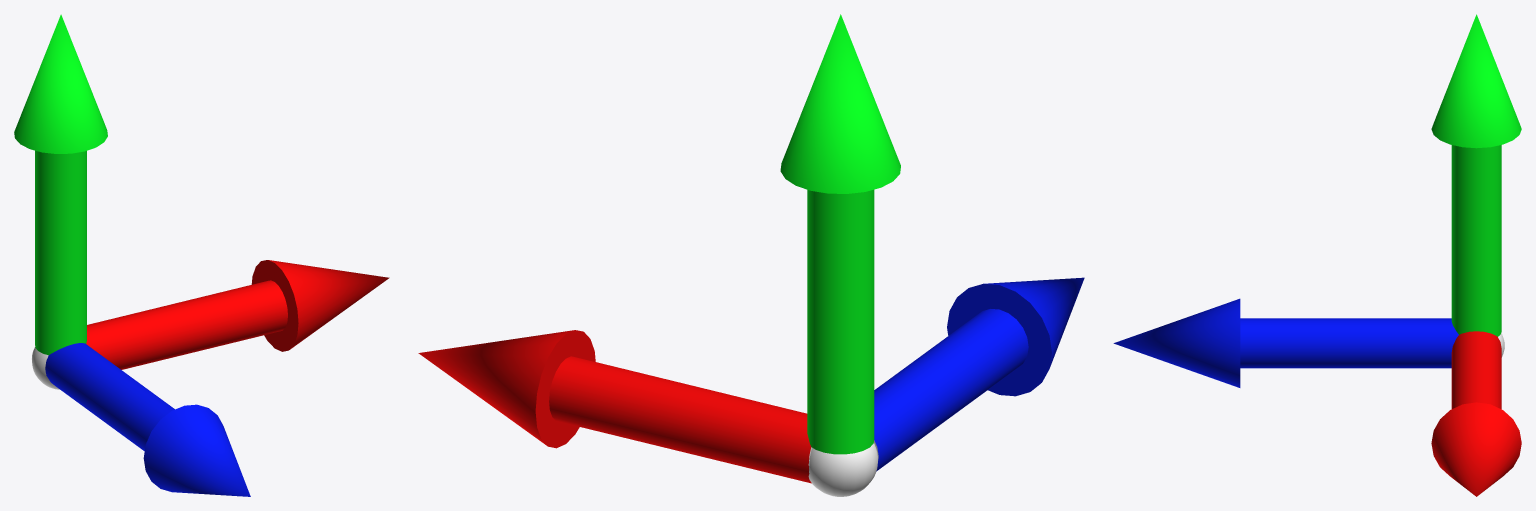
File: axis.obj
The picture shows the model from 3 angles, left to right: view 1: azimuth 30°, elevation 25°; view 2: azimuth 150°, elevation 25°; view 3: azimuth 270°, elevation 25°; orthographic projection. The views are drawn at different scales.
Parts seen in each view (by area): view 1: polySurface2, polySurface6, polySurface4, polySurface1 Mesh; view 2: polySurface2, polySurface6, polySurface4, polySurface1 Mesh; view 3: polySurface4, polySurface2, polySurface6.
Boxes of the visible parts, x1,y1,x2,y2 form: polySurface2: (14,14,107,355); polySurface6: (86,260,389,369); polySurface4: (45,343,250,496); polySurface1 Mesh: (32,347,59,389); polySurface2: (780,14,900,454); polySurface6: (418,330,811,483); polySurface4: (874,277,1084,471); polySurface1 Mesh: (808,443,877,496); polySurface4: (1113,298,1458,387); polySurface2: (1431,14,1521,336); polySurface6: (1431,331,1521,496).
Bounding box in the file's own units: 0.1305 × 0.1305 × 0.1305.
